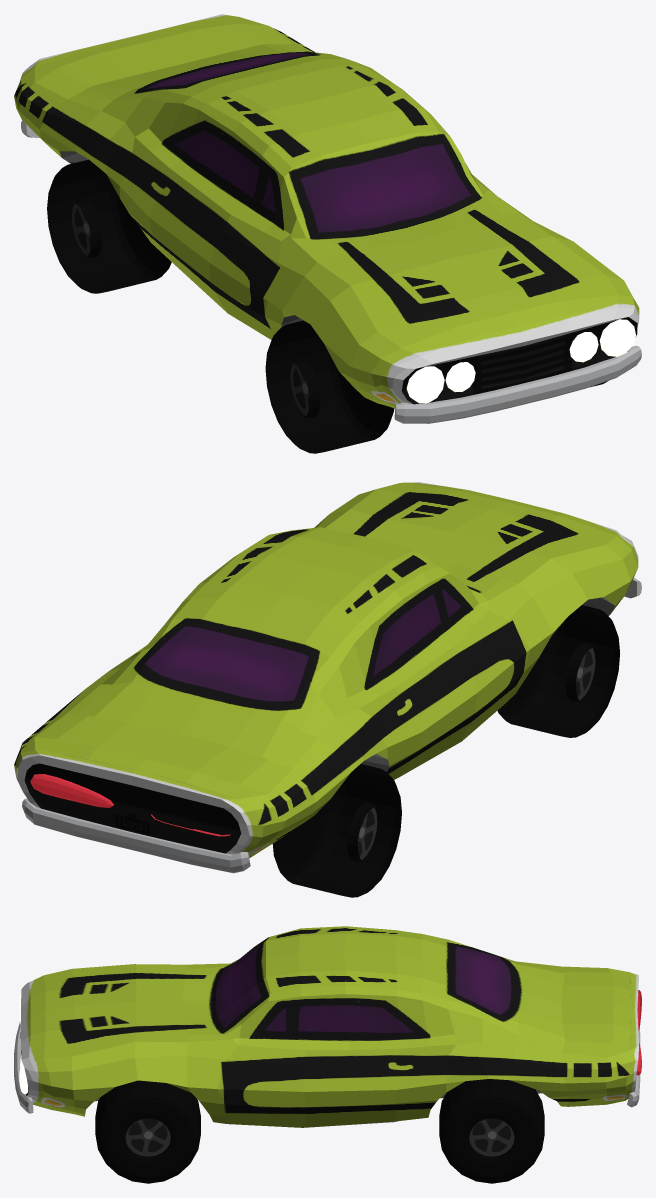
Rendered from car_charger_1.glb.
3 views of the same model, one above another, from view 1: azimuth 30°, elevation 25°; view 2: azimuth 150°, elevation 25°; view 3: azimuth 270°, elevation 25° (orthographic). The views are drawn at different scales.
Parts seen in each view (by area): view 1: Charger-bodywork, Charger-tireRB, Charger-tireRF, bumper_front, light_frontR, light_frontL; view 2: Charger-bodywork, Charger-tireRB, Charger-tireRF, bumper_back, light_backL; view 3: Charger-bodywork, Charger-tireLB, Charger-tireLF, bumper_front.
Boxes of the visible parts, <box> form: Charger-bodywork: <box>14,14,639,408</box>; Charger-tireRB: <box>47,159,171,293</box>; Charger-tireRF: <box>265,320,394,453</box>; bumper_front: <box>394,345,641,423</box>; light_frontR: <box>406,362,475,403</box>; light_frontL: <box>569,319,635,362</box>; Charger-bodywork: <box>14,482,638,857</box>; Charger-tireRB: <box>272,764,401,897</box>; Charger-tireRF: <box>497,605,619,737</box>; bumper_back: <box>22,798,250,873</box>; light_backL: <box>30,774,113,807</box>; Charger-bodywork: <box>20,926,638,1127</box>; Charger-tireLB: <box>439,1079,544,1183</box>; Charger-tireLF: <box>95,1080,200,1183</box>; bumper_front: <box>14,1022,33,1113</box>.
Bounding box in the file's own units: 2.78 × 1.98 × 6.38.
Materials: 8 (3 with a texture image).
